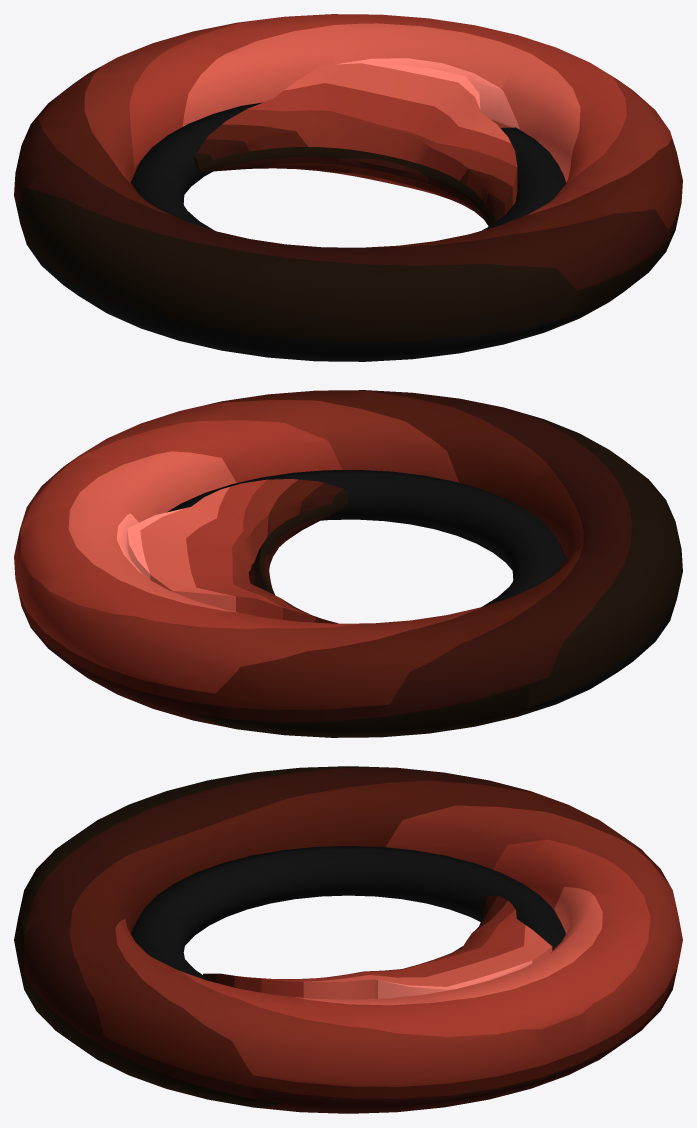
Rendered from pulse_ring_38.glb.
3 renders of one model, top to bottom at view 1: azimuth 30°, elevation 25°; view 2: azimuth 150°, elevation 25°; view 3: azimuth 270°, elevation 25°, orthographic.
Visible parts, largest first — view 1: pulse_ring_38_band, pulse_ring_38_crescent, pulse_ring_38_lip; view 2: pulse_ring_38_band, pulse_ring_38_crescent, pulse_ring_38_lip; view 3: pulse_ring_38_band, pulse_ring_38_lip, pulse_ring_38_crescent.
Boxes of the visible parts, box(x1,y1,x2,y2) form: pulse_ring_38_band: box(14, 14, 682, 361); pulse_ring_38_crescent: box(194, 63, 517, 226); pulse_ring_38_lip: box(131, 102, 565, 230); pulse_ring_38_band: box(14, 390, 682, 737); pulse_ring_38_crescent: box(127, 479, 347, 623); pulse_ring_38_lip: box(167, 470, 565, 606); pulse_ring_38_band: box(14, 766, 682, 1113); pulse_ring_38_lip: box(131, 846, 565, 982); pulse_ring_38_crescent: box(203, 896, 552, 999).
Size of the model in its own units: 12.1 by 1.9 by 12.1.
